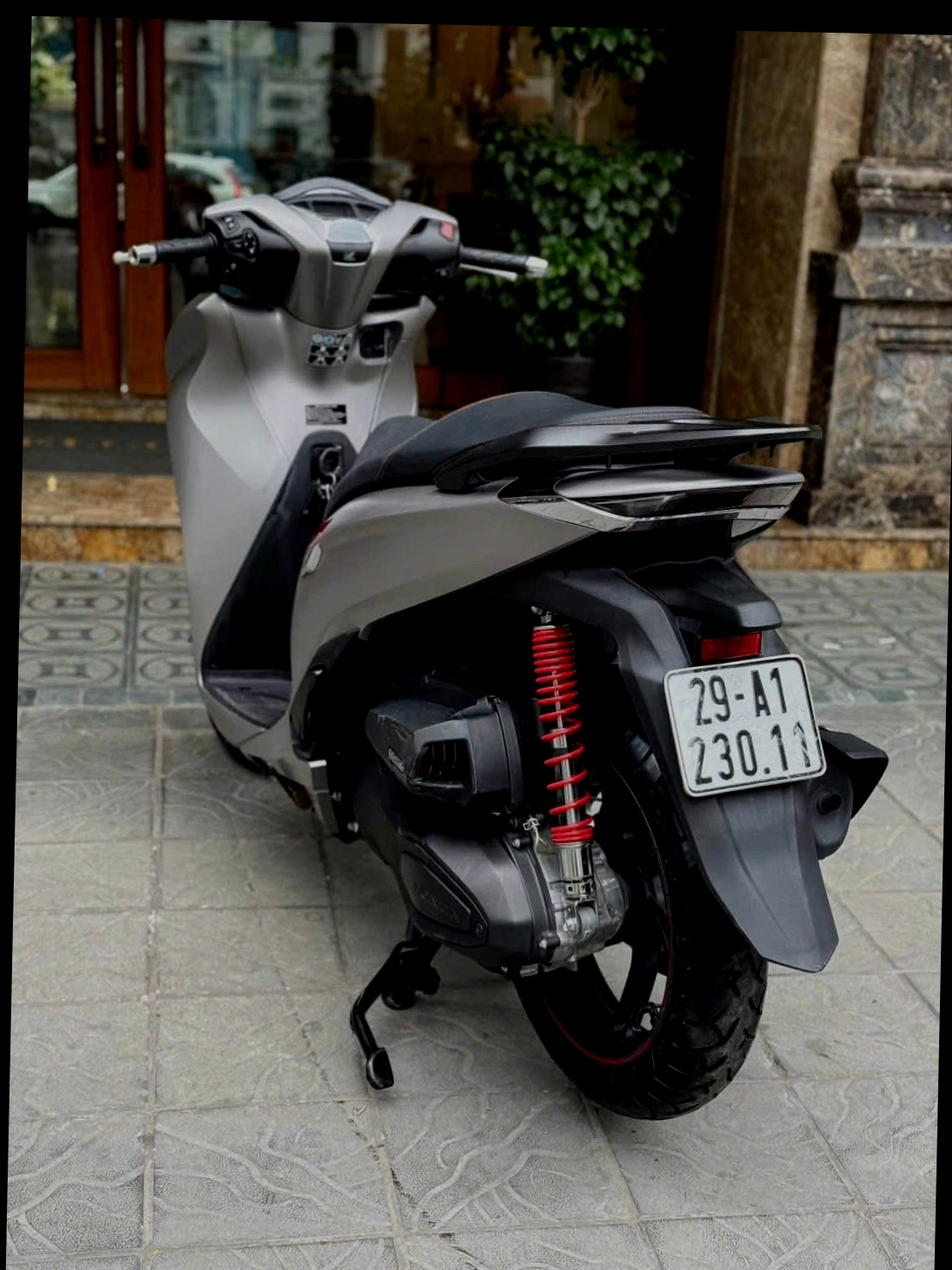Bien-so: (672, 638, 851, 799)
